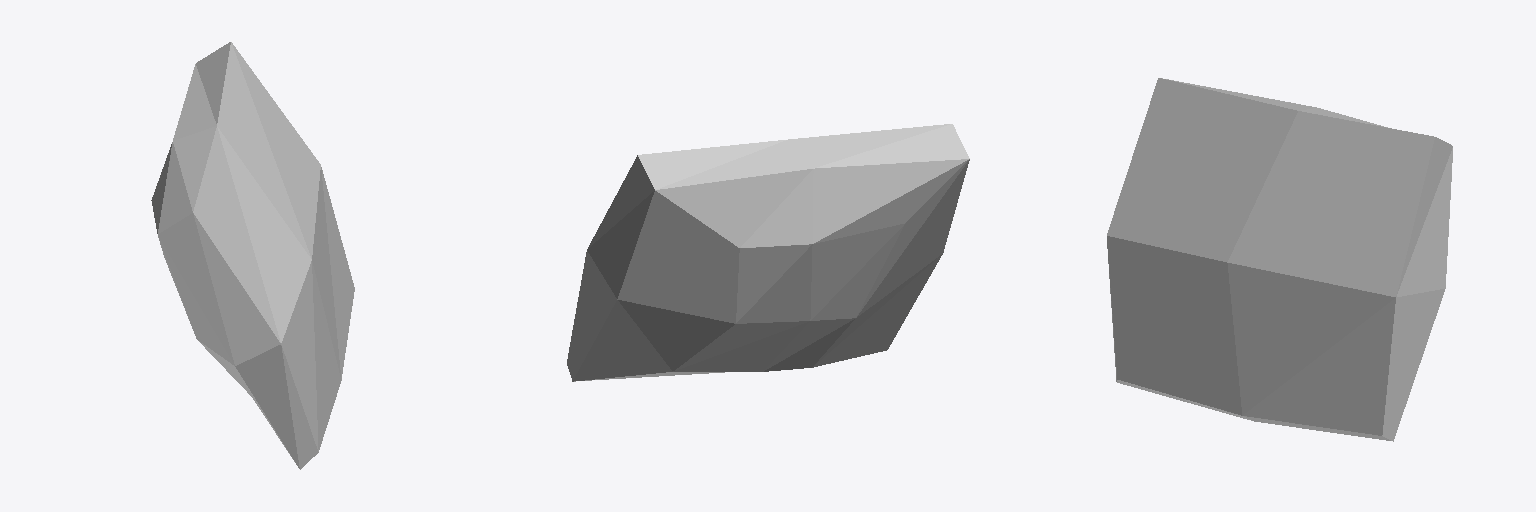
The model's file is Sofa_ConvexMesh.obj.
The picture shows the model from 3 angles: view 1: azimuth 30°, elevation 25°; view 2: azimuth 150°, elevation 25°; view 3: azimuth 270°, elevation 25°; orthographic projection.
Parts seen in each view (by area): view 1: Sofa_Cushion0_ConvexMesh; view 2: Sofa_Cushion0_ConvexMesh; view 3: Sofa_Cushion0_ConvexMesh.
Part boxes in pixels (bbox=[...]): Sofa_Cushion0_ConvexMesh: bbox=[151, 42, 354, 469]; Sofa_Cushion0_ConvexMesh: bbox=[567, 124, 969, 381]; Sofa_Cushion0_ConvexMesh: bbox=[1107, 78, 1452, 441].
Bounding box in the file's own units: 0.4953 × 0.4569 × 0.4953.